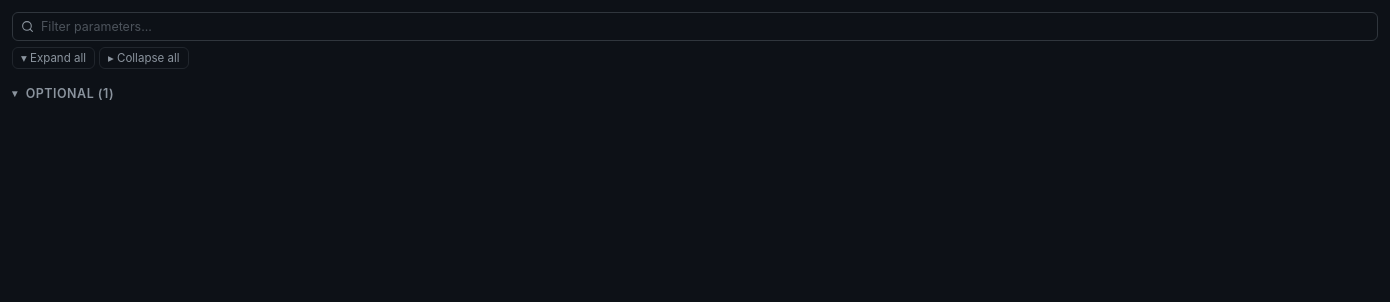
Test case: ParamEditor › passes existing record array to ArrayEditor for object[] param
Click the button "▾ Optional (1)": (70, 94) [12,77,1378,111]
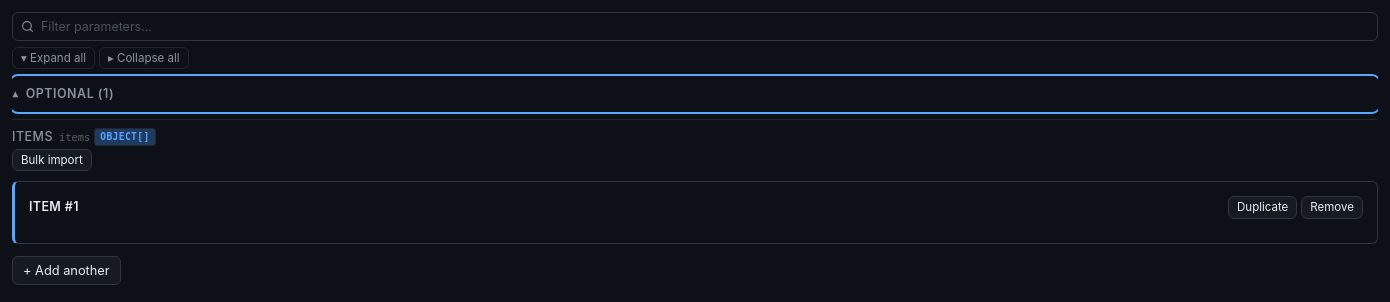
Check: the text "items" is shown, box [59,131,90,143]
